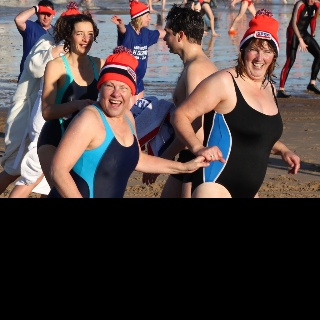without_mask: (100, 79, 131, 117), (245, 38, 274, 77), (70, 20, 93, 53), (162, 20, 177, 53), (37, 6, 53, 26), (142, 12, 150, 26), (306, 0, 315, 5)
